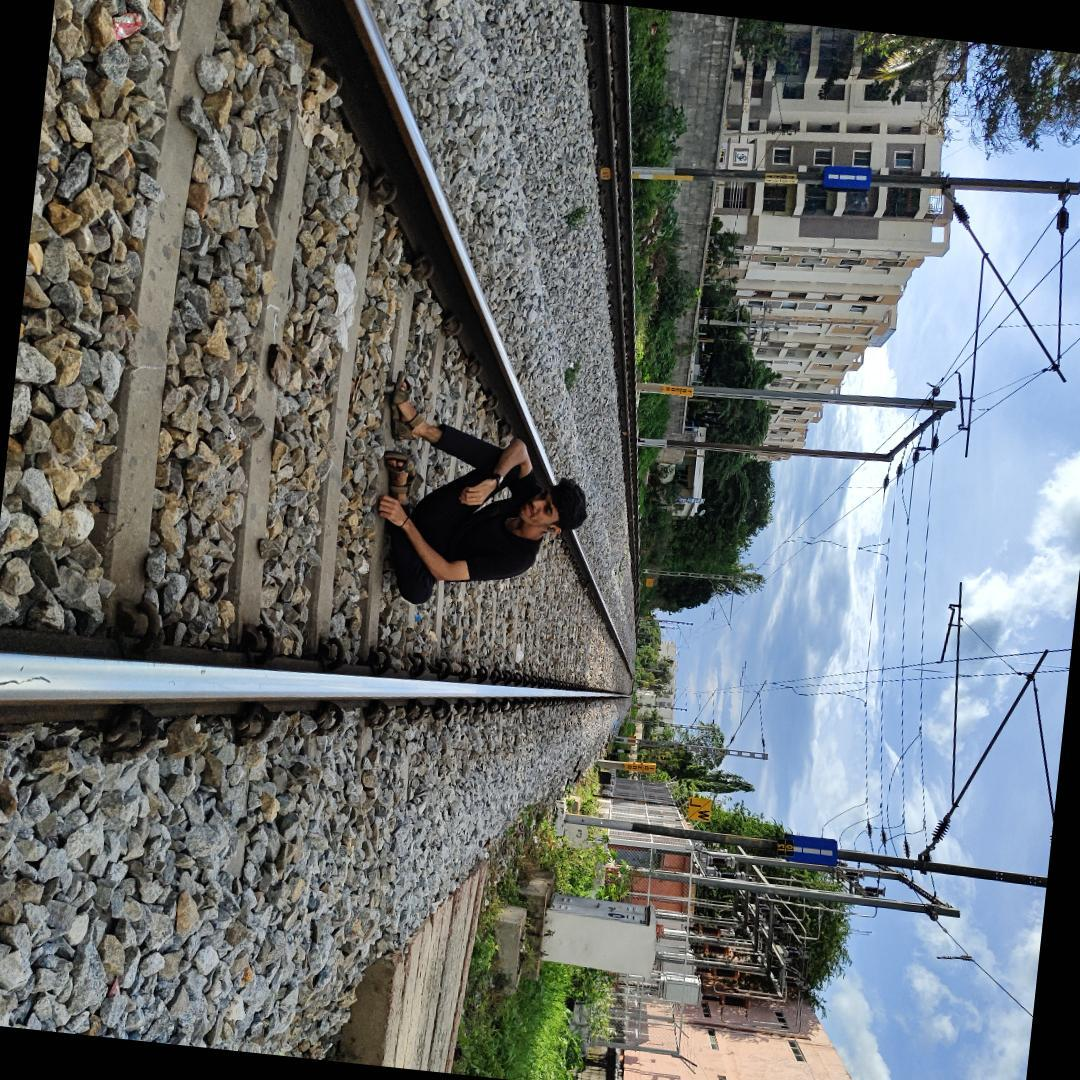sitting: (357, 386, 603, 614)
